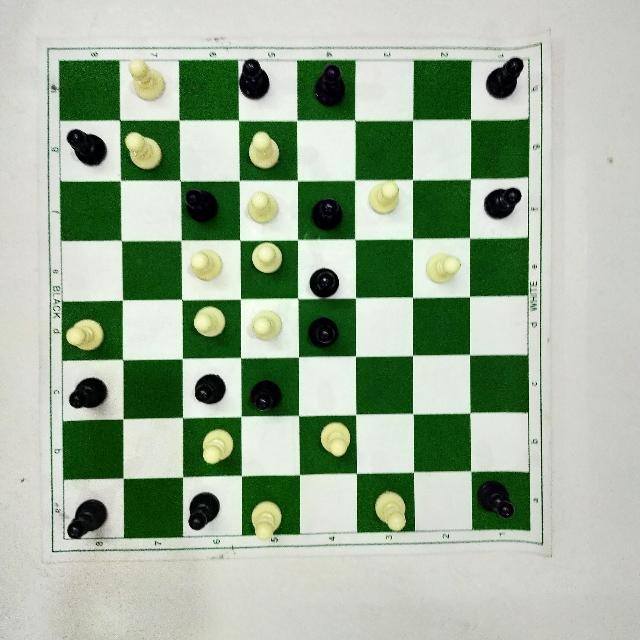black-pawn: (304, 60, 356, 115), (472, 475, 526, 527), (61, 496, 116, 545), (302, 257, 353, 306), (233, 54, 279, 106), (481, 53, 529, 102), (479, 179, 527, 224), (63, 370, 115, 411), (61, 127, 111, 168), (243, 375, 287, 420), (185, 487, 227, 534), (181, 185, 225, 227), (305, 312, 347, 356), (308, 193, 349, 237), (190, 367, 232, 409)
white-pawn: (241, 124, 295, 172), (369, 485, 416, 537), (121, 128, 171, 176), (124, 52, 169, 104), (60, 311, 113, 355), (365, 174, 409, 223), (198, 423, 242, 472), (312, 417, 359, 461), (244, 497, 288, 543), (188, 243, 232, 285), (192, 299, 230, 345), (244, 303, 285, 345), (249, 238, 289, 280), (425, 248, 465, 289), (243, 188, 283, 228)
